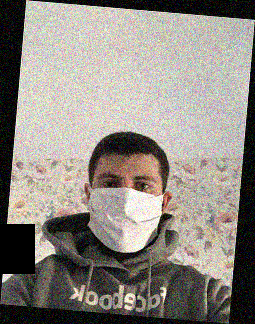with_mask: (87, 165, 163, 252)
